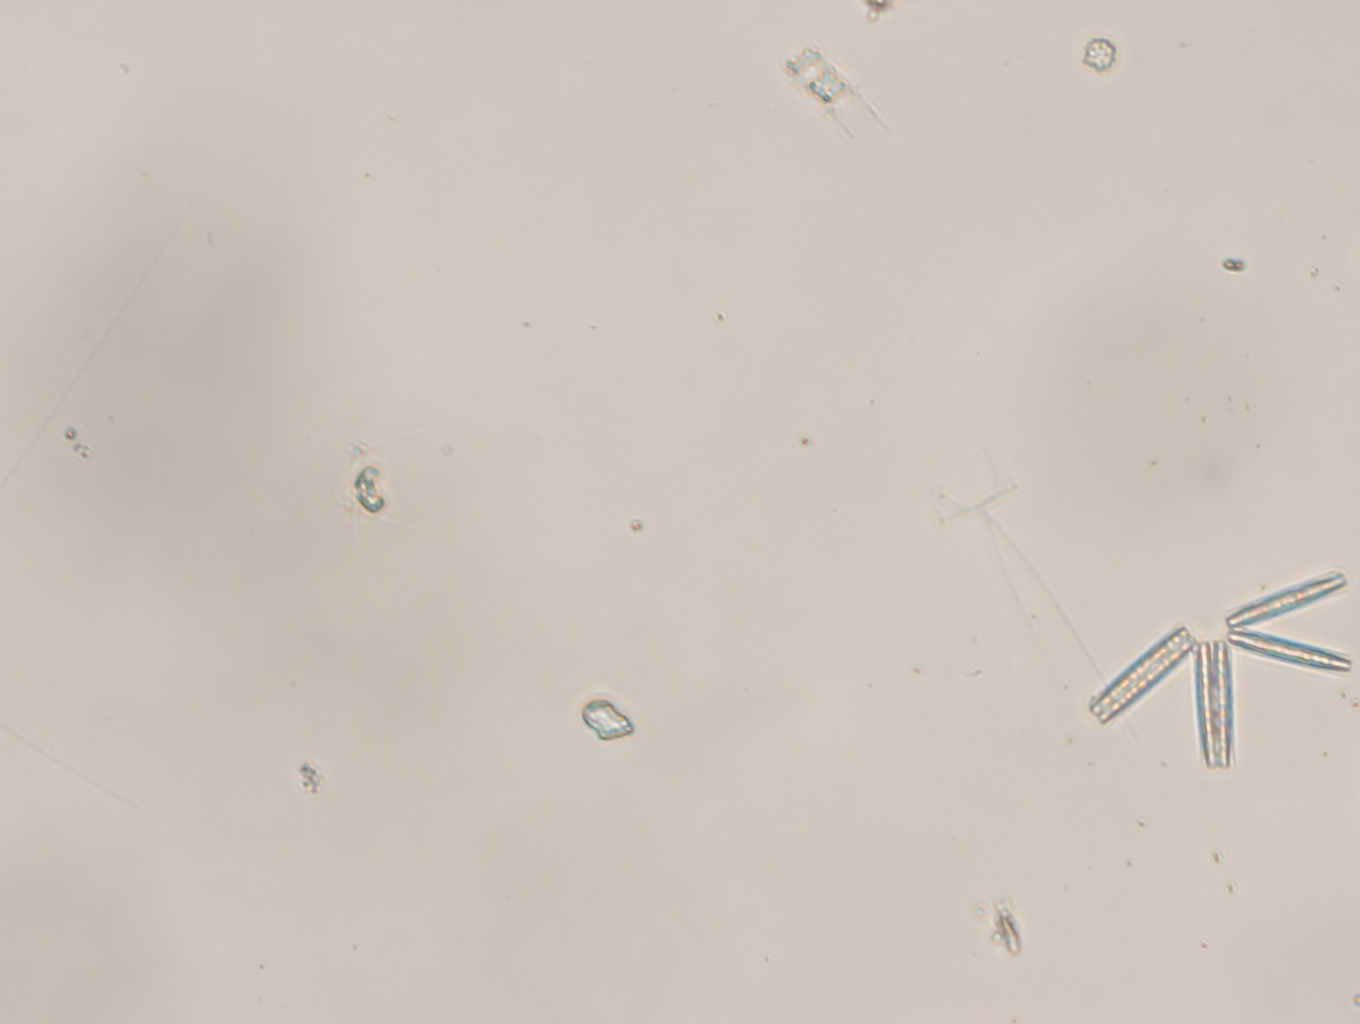thalassionema nitzschioides: (1085, 557, 1356, 773)
